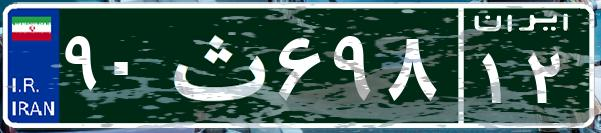0: (110, 28, 158, 105)
1: (475, 38, 525, 113)
2: (525, 38, 570, 115)
6: (273, 28, 330, 110)
8: (385, 28, 445, 110)
9: (330, 28, 385, 110), (57, 26, 110, 107)
ث: (158, 15, 273, 115)
